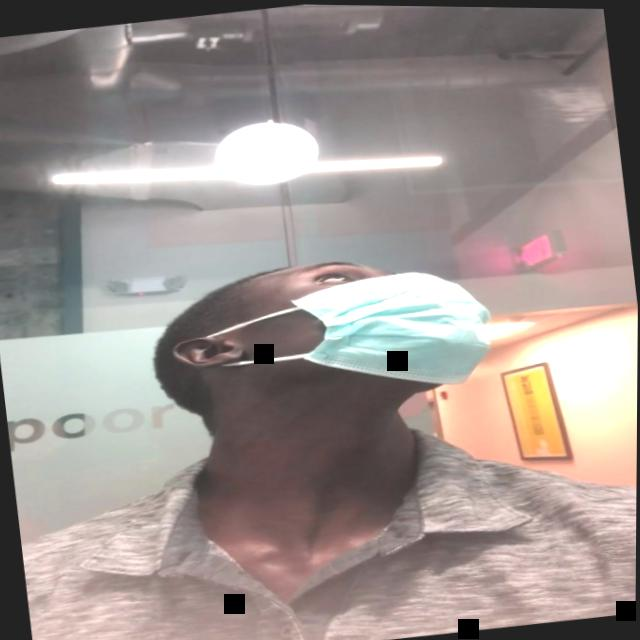Mask: (175, 243, 495, 411)
